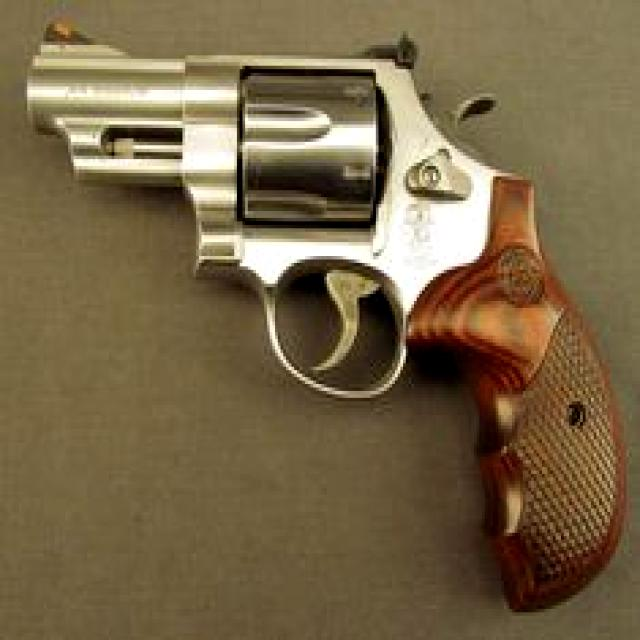revolver: (21, 4, 634, 614)
